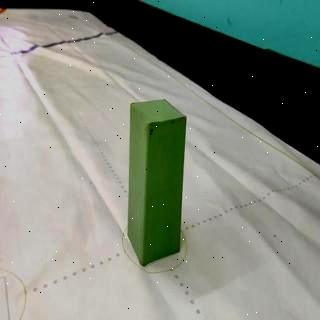greenbox: (126, 95, 188, 268)
